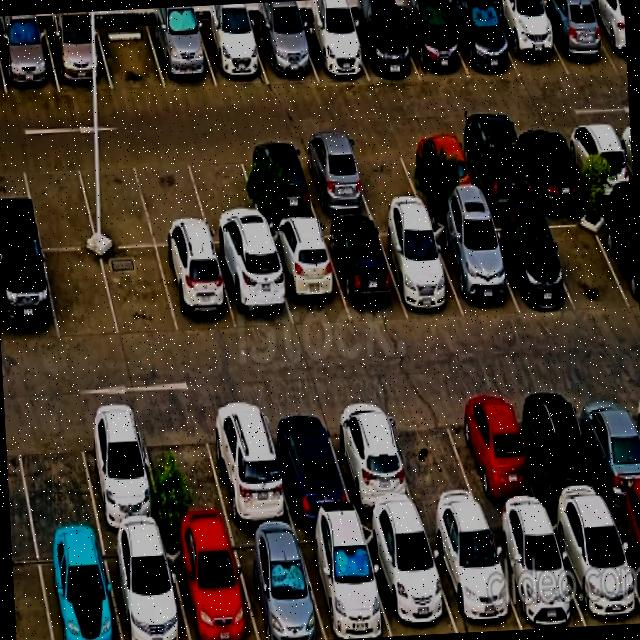empty: (382, 394, 484, 520), (139, 409, 231, 533), (13, 412, 100, 540), (540, 205, 632, 308), (185, 146, 265, 244), (76, 153, 155, 248), (134, 151, 211, 246), (21, 155, 97, 249), (101, 247, 179, 338), (43, 251, 119, 341), (345, 138, 423, 214), (96, 22, 166, 90)
occupied: (447, 390, 543, 515), (202, 401, 294, 529), (323, 400, 420, 520), (486, 514, 585, 630), (424, 518, 522, 633), (263, 404, 355, 525), (519, 386, 608, 511), (76, 410, 164, 535), (548, 507, 640, 626), (361, 523, 457, 637), (296, 525, 391, 640), (229, 530, 326, 640), (165, 532, 258, 640), (102, 534, 189, 640), (482, 214, 573, 313), (429, 218, 519, 317), (36, 538, 121, 640), (375, 220, 464, 317), (267, 225, 350, 329), (322, 221, 407, 322), (571, 385, 640, 506), (157, 245, 237, 334), (213, 243, 293, 330), (454, 130, 536, 211), (239, 143, 318, 224), (295, 141, 372, 219), (400, 134, 480, 209), (512, 125, 588, 202), (491, 5, 569, 80), (536, 4, 618, 75), (0, 247, 59, 345), (446, 6, 520, 79), (398, 6, 470, 81), (563, 122, 634, 197), (347, 12, 420, 81), (594, 204, 640, 310), (196, 21, 269, 87), (147, 21, 217, 89), (44, 24, 112, 92), (297, 18, 369, 82), (251, 20, 318, 84), (0, 27, 59, 95), (609, 504, 640, 598), (586, 1, 627, 72)
